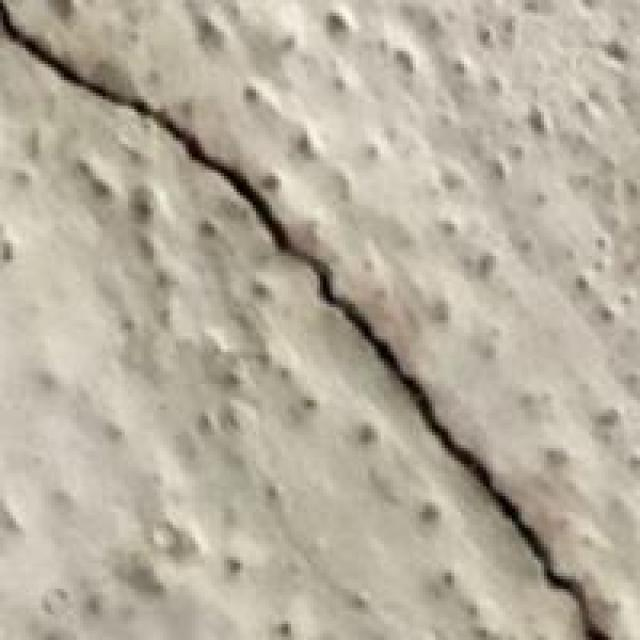crack: (3, 3, 630, 637)
